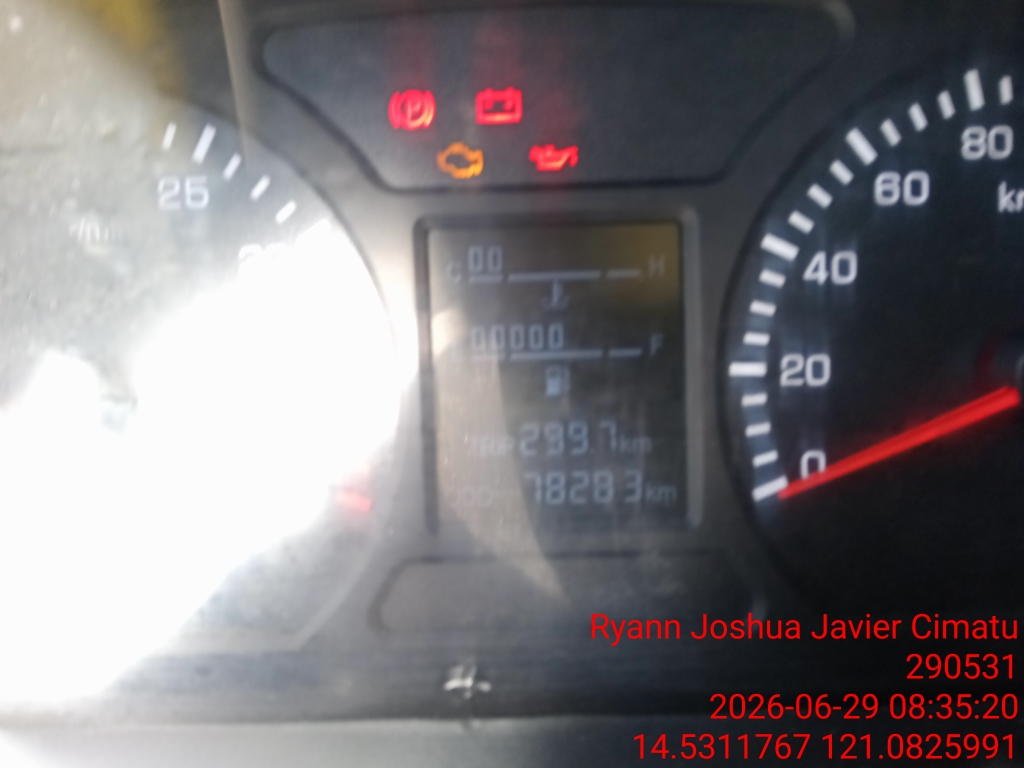grid_pose: (240, 94, 643, 361)
